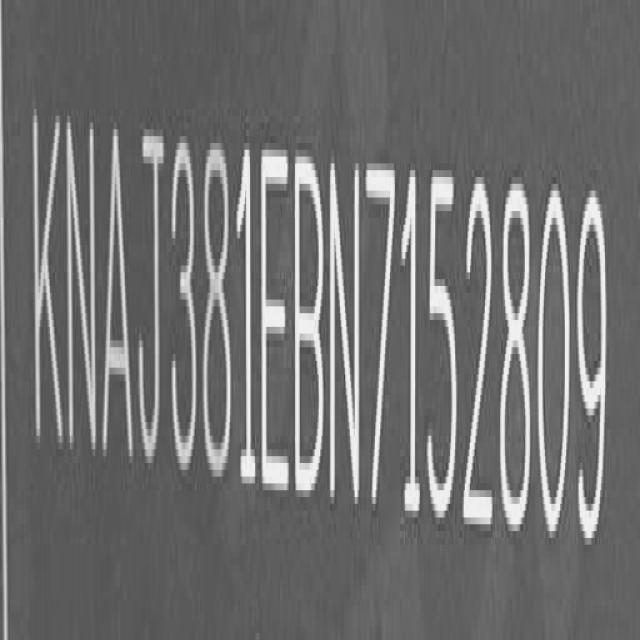0: (535, 184, 574, 550)
1: (399, 169, 423, 512), (236, 136, 256, 484)
2: (462, 174, 494, 522)
3: (169, 136, 200, 477)
5: (427, 174, 459, 522)
7: (365, 141, 397, 522)
8: (497, 184, 533, 522), (201, 144, 235, 482)
9: (574, 189, 610, 547)
A: (102, 114, 136, 482)
B: (292, 154, 325, 502)
E: (260, 141, 290, 492)
J: (138, 131, 169, 464)
K: (30, 106, 64, 461)
N: (328, 159, 364, 524), (64, 109, 98, 462)
